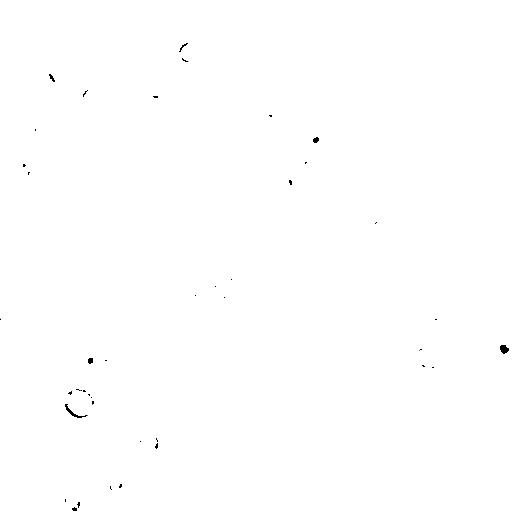micro-algae: (35, 157, 129, 251), (307, 421, 373, 483), (293, 252, 351, 313), (75, 15, 124, 66), (42, 31, 87, 79), (398, 391, 442, 435), (390, 340, 430, 385), (307, 481, 357, 511), (415, 301, 450, 335), (315, 84, 348, 119), (103, 266, 139, 297), (92, 351, 125, 382), (202, 44, 233, 76), (274, 163, 304, 196), (206, 130, 232, 167), (485, 328, 511, 364), (227, 37, 256, 69), (63, 388, 95, 417), (348, 495, 399, 512), (397, 133, 424, 165), (296, 125, 326, 153), (255, 98, 283, 127), (495, 402, 511, 452), (125, 345, 157, 370), (113, 236, 142, 263), (121, 385, 146, 416), (462, 247, 486, 279), (383, 386, 412, 409), (79, 86, 103, 113), (289, 143, 313, 170), (341, 111, 368, 134), (59, 364, 83, 389), (213, 275, 237, 299), (415, 346, 440, 369), (285, 31, 311, 53), (316, 483, 337, 510), (187, 273, 207, 301), (77, 346, 99, 371), (47, 63, 71, 85), (179, 41, 203, 63), (27, 73, 51, 94), (369, 215, 391, 237), (279, 459, 300, 481), (140, 433, 161, 455), (426, 0, 461, 13), (57, 493, 80, 512), (17, 120, 41, 138), (405, 323, 425, 341), (129, 307, 148, 325), (471, 395, 489, 414), (17, 160, 32, 181), (109, 474, 123, 495), (503, 299, 512, 330), (90, 502, 117, 511), (223, 500, 243, 512)
